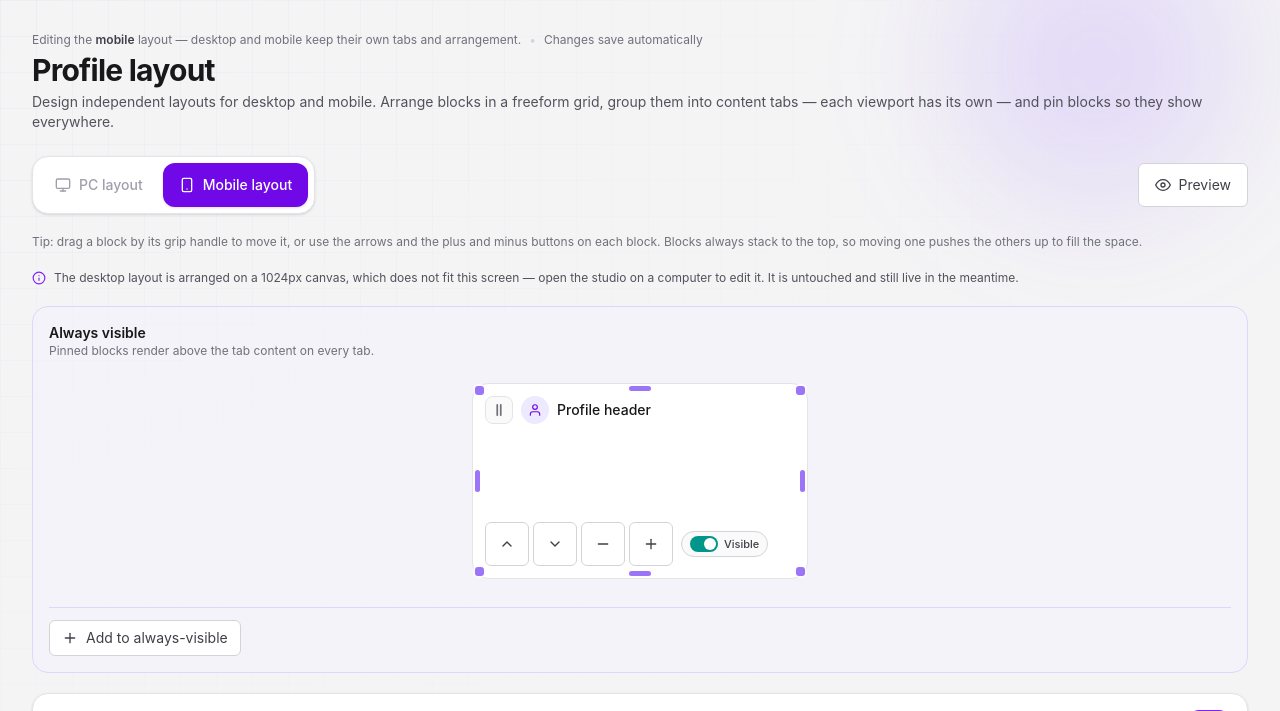
Test case: ProfileLayoutPage — the live preview modal › offers the mobile preview ONLY on a narrow screen
Click the button "Preview" at (1193, 185), box 1138,163 -> 1248,207
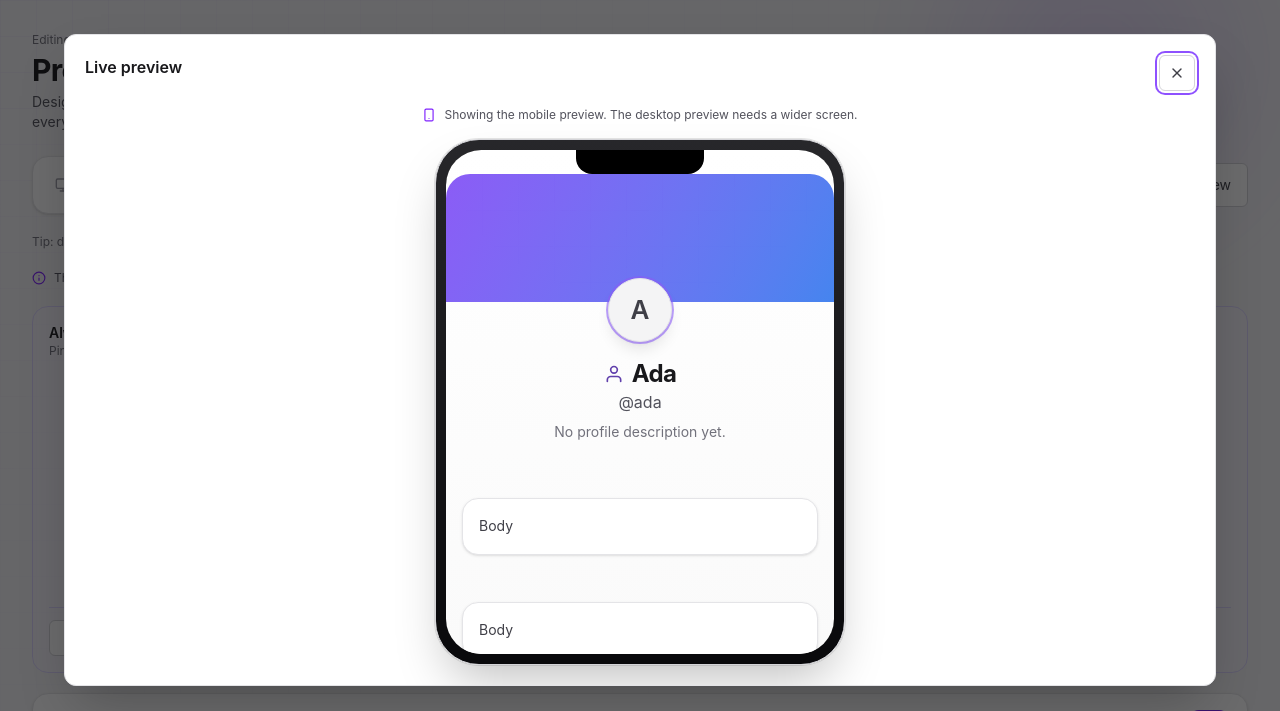
Expected: the dialog shows "Showing the mobile preview", 444,107 -> 858,122
